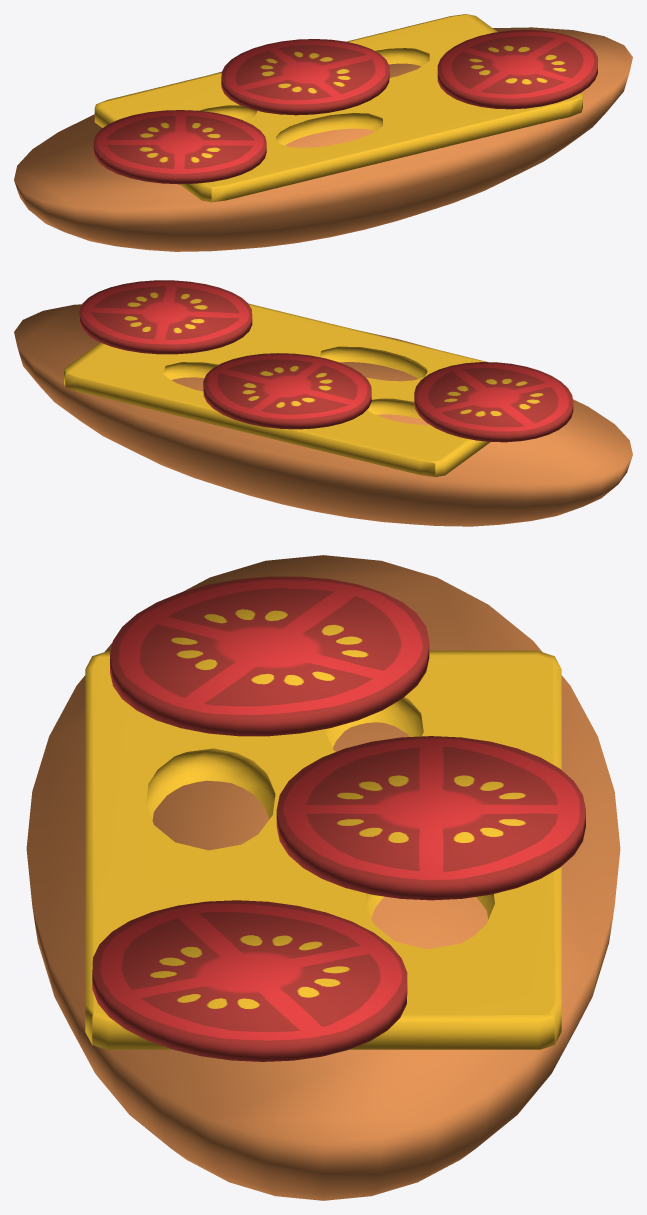
The model's file is kanapka_pomidor_ser.gltf.
3 views of the same model, one above another, from view 1: azimuth 30°, elevation 25°; view 2: azimuth 150°, elevation 25°; view 3: azimuth 270°, elevation 25° (orthographic). The views are drawn at different scales.
Visible parts, largest first — view 1: Sphere, Cube.002, Circle.001, Circle.002, Circle; view 2: Sphere, Cube.002, Circle, Circle.002, Circle.001; view 3: Sphere, Cube.002, Circle.001, Circle, Circle.002.
Boxes of the visible parts, x1,y1,x2,y2 form: Sphere: (14, 27, 632, 251); Cube.002: (94, 14, 582, 202); Circle.001: (93, 110, 266, 184); Circle.002: (221, 39, 389, 115); Circle: (437, 29, 597, 109); Sphere: (14, 304, 632, 526); Cube.002: (64, 303, 490, 476); Circle: (79, 280, 252, 354); Circle.002: (203, 353, 371, 429); Circle.001: (414, 362, 573, 442); Sphere: (26, 555, 620, 1200); Cube.002: (85, 650, 561, 1049); Circle.001: (110, 576, 429, 736); Circle: (92, 900, 407, 1061); Circle.002: (276, 736, 585, 900).
Bounding box in the file's own units: 0.2883 × 0.0556 × 0.1233.
4 materials, 4 textured.
